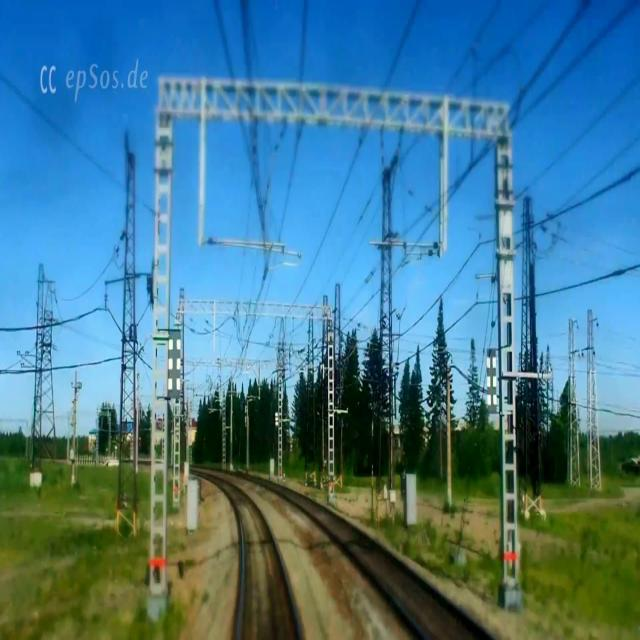rail-track: (309, 505, 485, 639), (232, 490, 296, 639)
